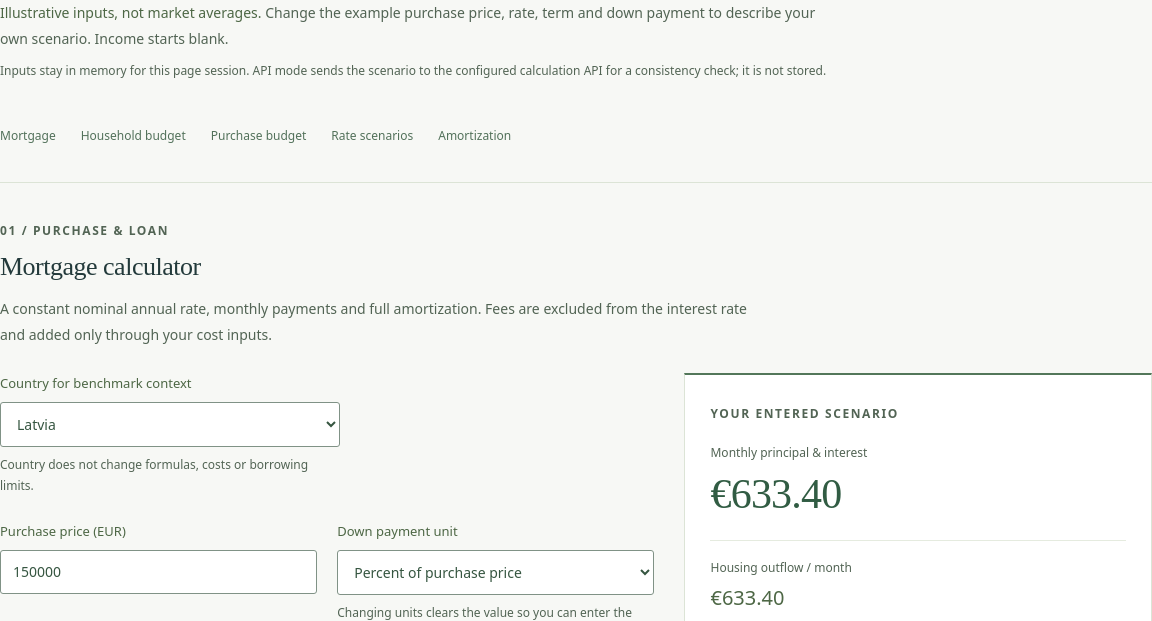
it: linked housing scenario › requires a new explicit down payment when units change
The width and height of the screenshot is (1152, 621).
Select "Amount in EUR" in the dropdown labelled "Down payment unit": point(496, 572) top-left (337, 550), bottom-right (654, 594)
(page scrolled)
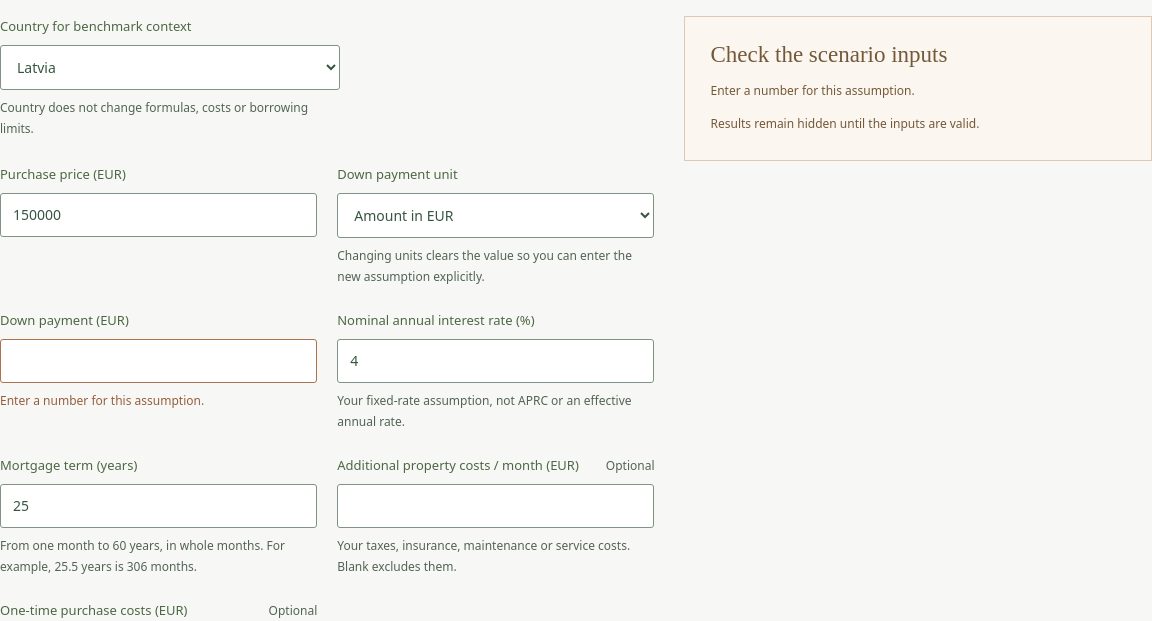
Now the number field labelled "Down payment (EUR)" is not empty
In the number field labelled "Down payment (EUR)": point(159, 360) top-left (0, 338), bottom-right (317, 382), type "30000"
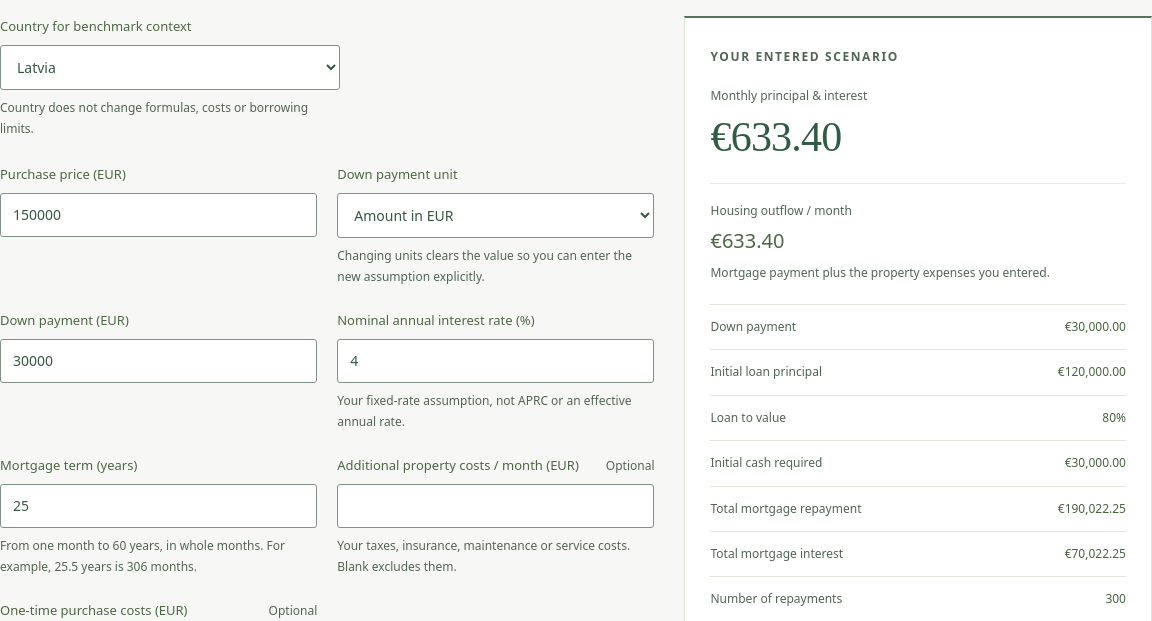
Now the element named "Mortgage results" shows "€633.40", box top-left (710, 114), bottom-right (841, 160)
Replace the text in the number field labelled "Down payment (EUR)" with "150001": point(159, 360) top-left (0, 338), bottom-right (317, 382)
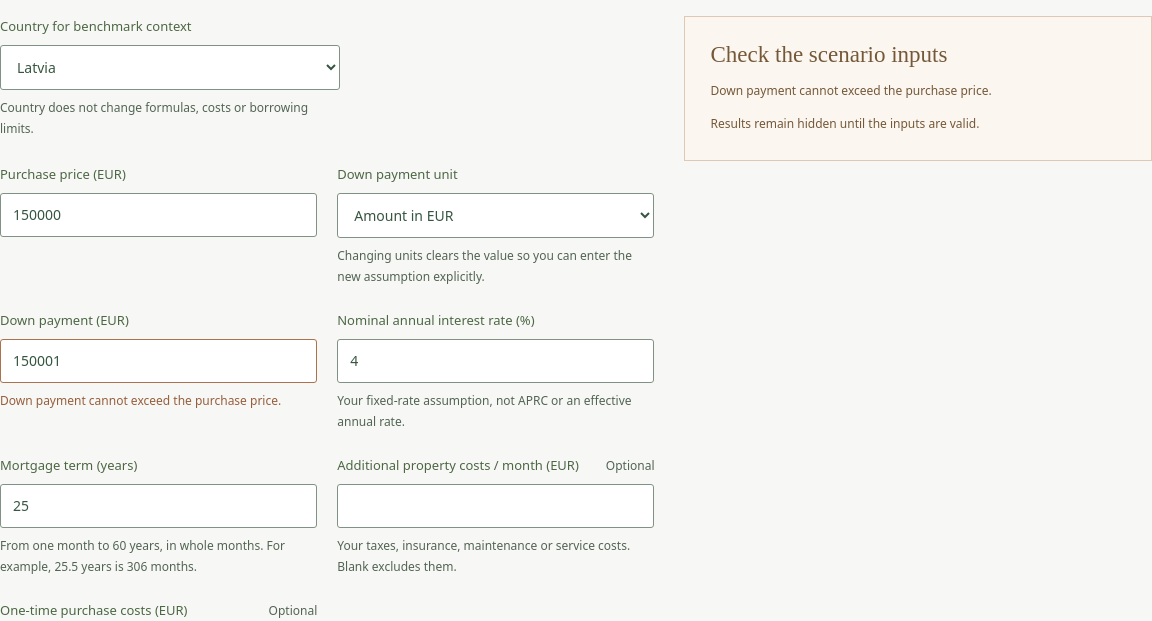
Now the message shows "Down payment cannot exceed", box top-left (710, 82), bottom-right (992, 99)
